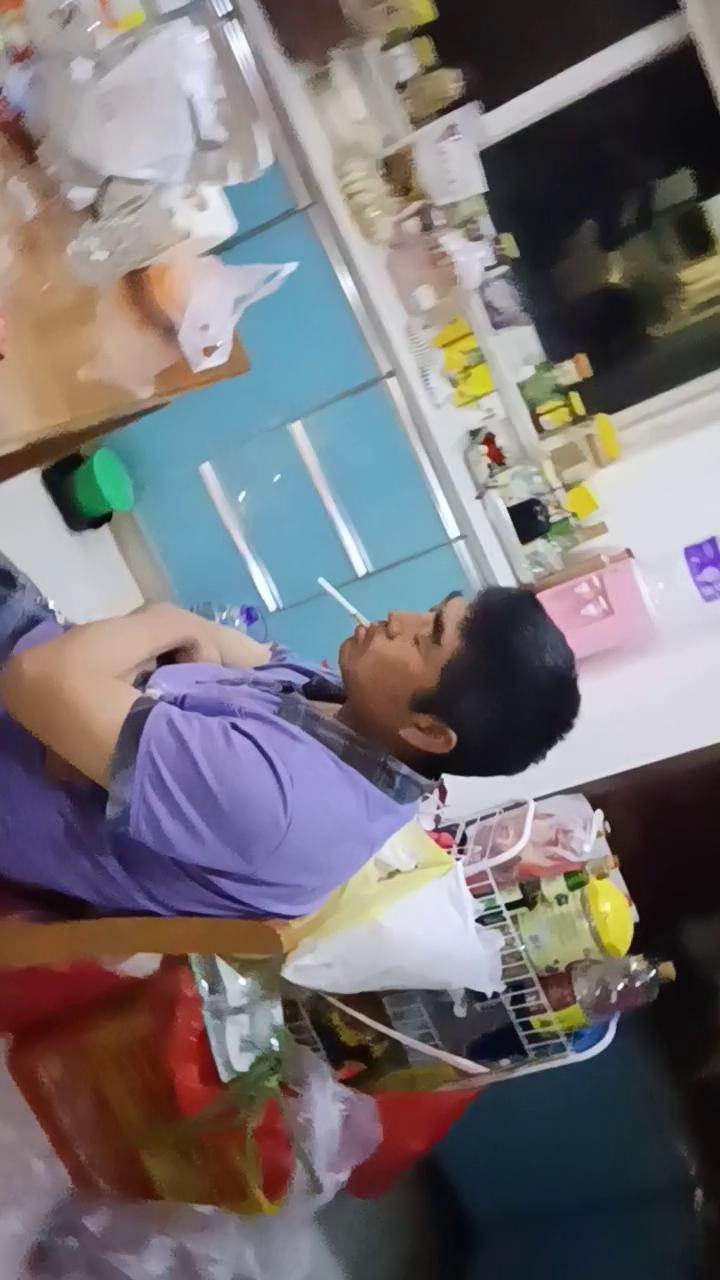smoke: (316, 576, 371, 630)
